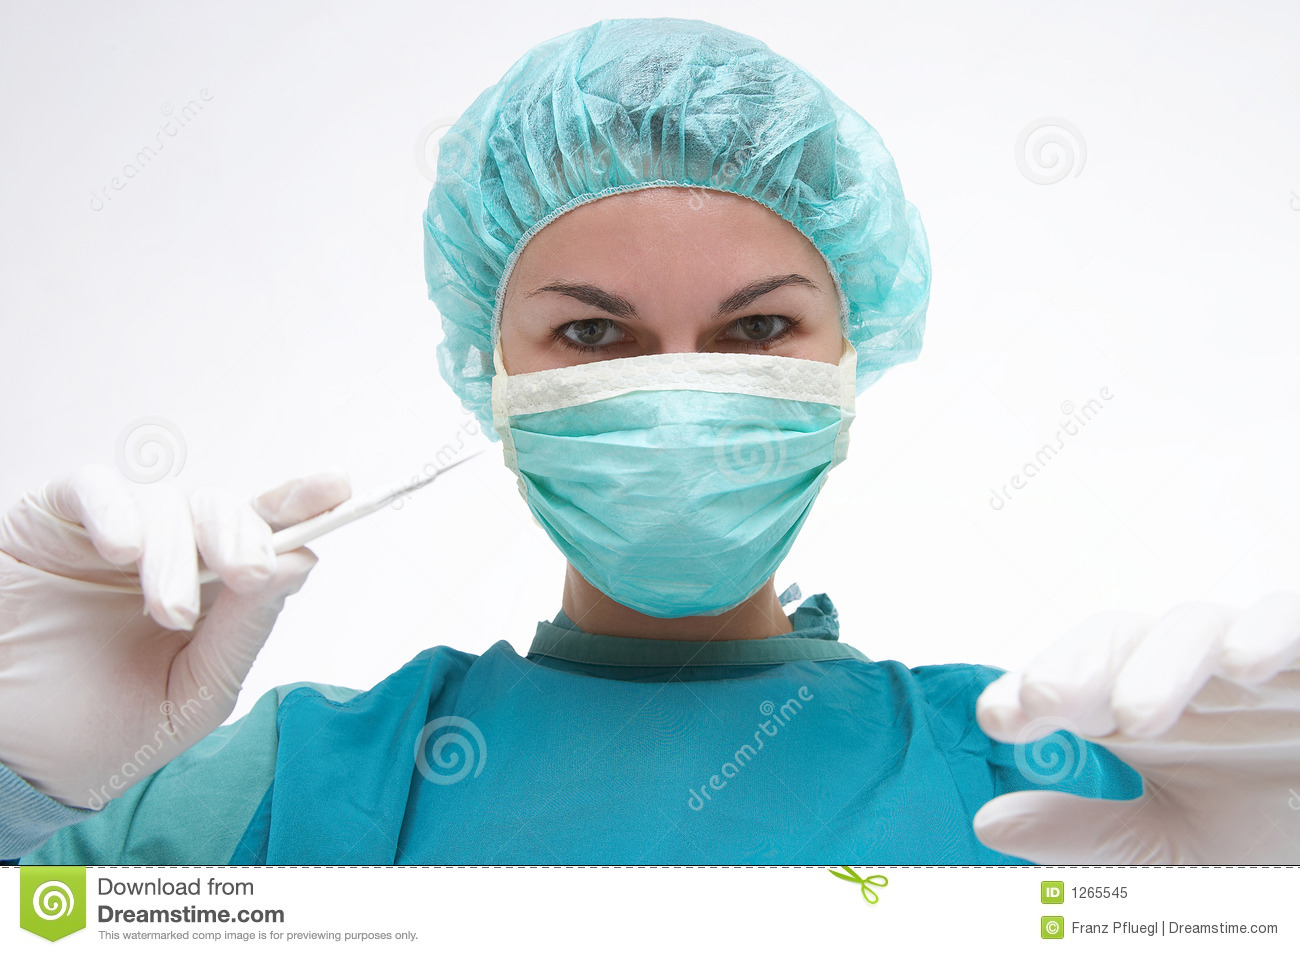mask: (490, 355, 856, 615)
